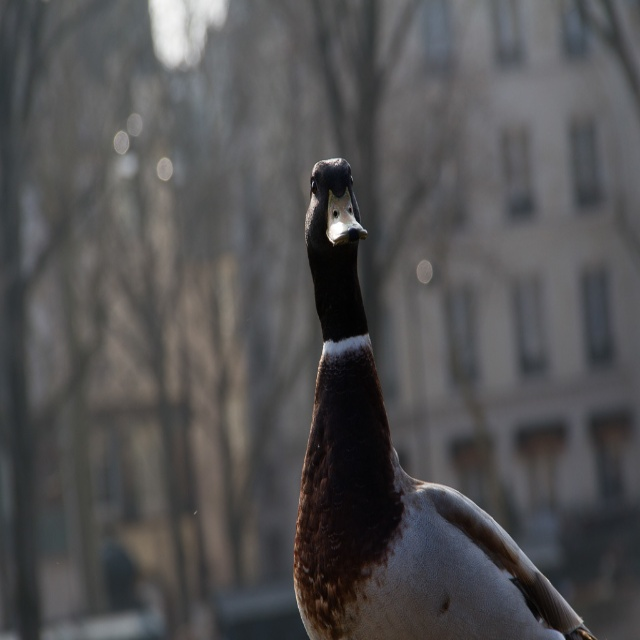Goose: (295, 156, 589, 638)
